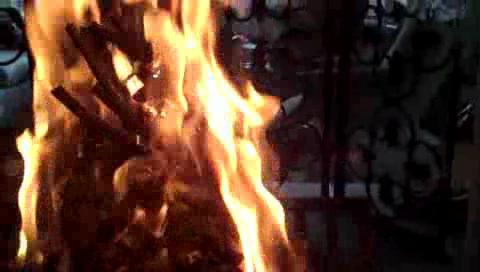fire: (19, 3, 251, 253)
